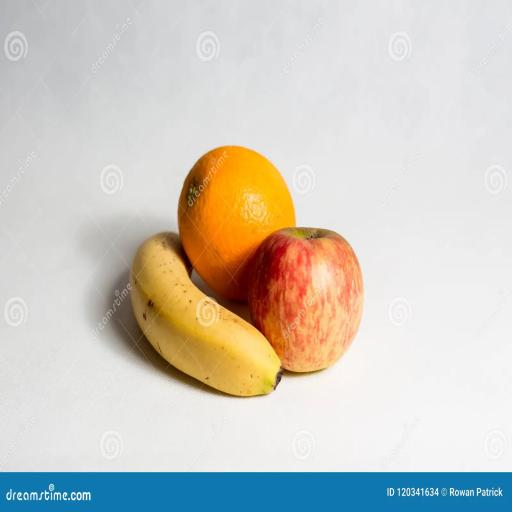apple: (249, 228, 363, 372)
banana: (131, 233, 282, 396)
orange: (178, 147, 295, 300)
